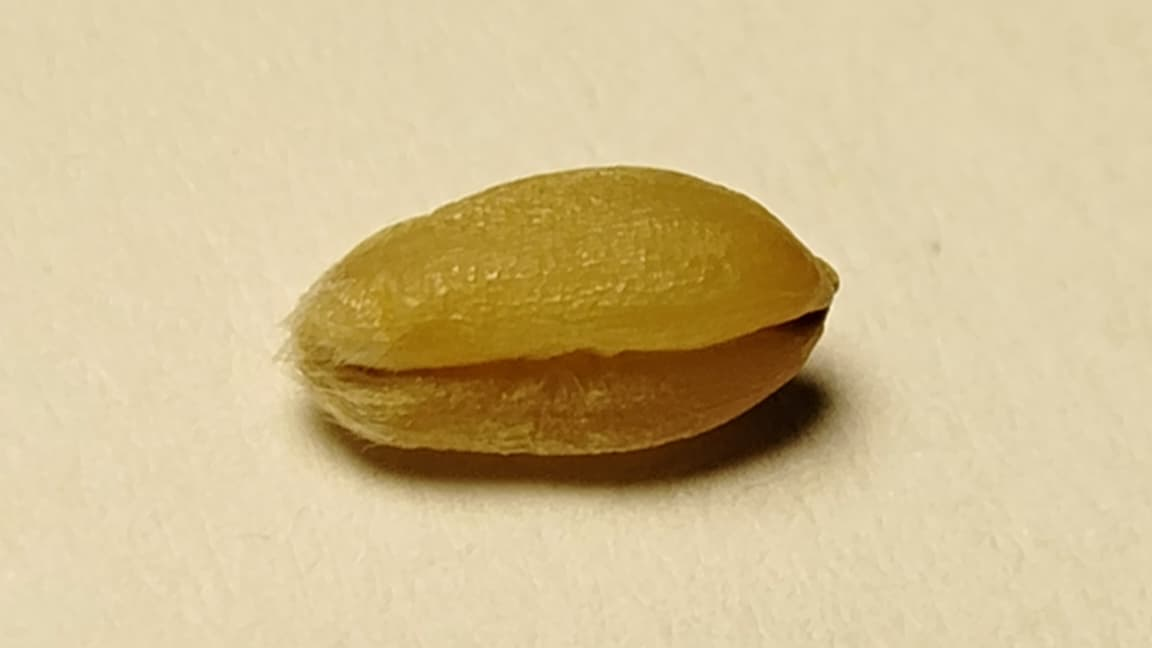healthy: (287, 168, 837, 453)
